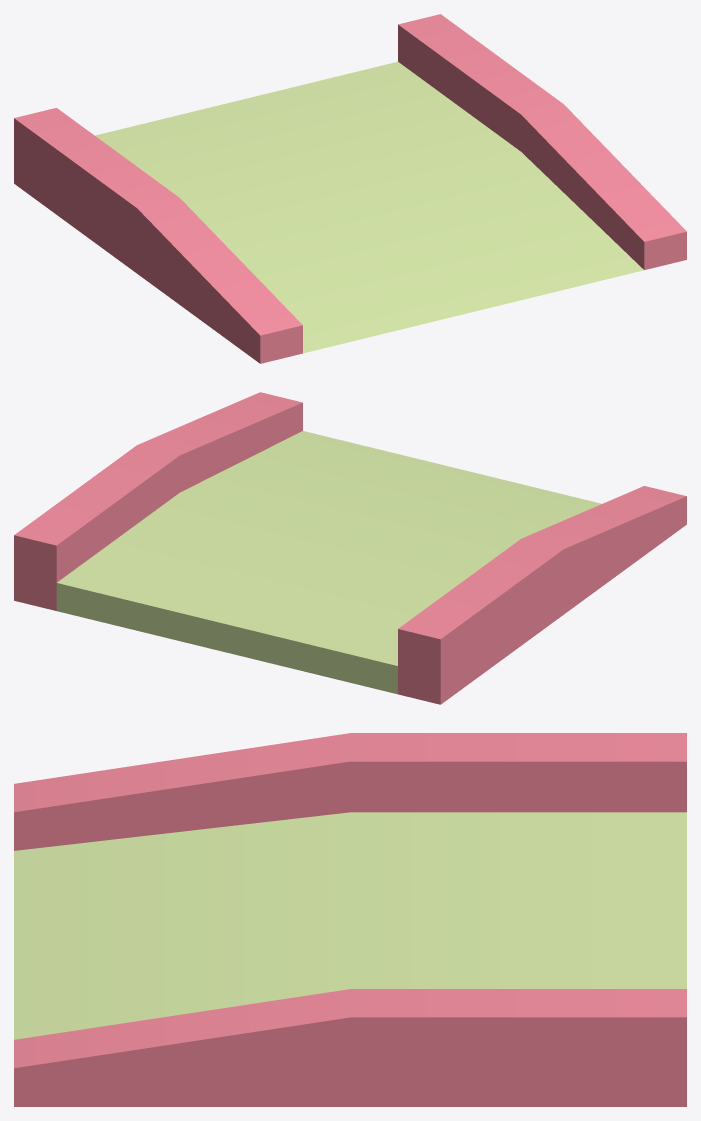
The model's file is start.fbx.
3 views of the same model, one above another, from view 1: azimuth 30°, elevation 25°; view 2: azimuth 150°, elevation 25°; view 3: azimuth 270°, elevation 25° (orthographic). The views are drawn at different scales.
Visible parts, largest first — view 1: start; view 2: start; view 3: start.
Boxes of the visible parts, x1=… form: start: x1=14, y1=14, x2=686, y2=363; start: x1=14, y1=392, x2=686, y2=704; start: x1=14, y1=733, x2=686, y2=1106.
Size of the model in its own units: 99.99 by 14.67 by 99.99.
